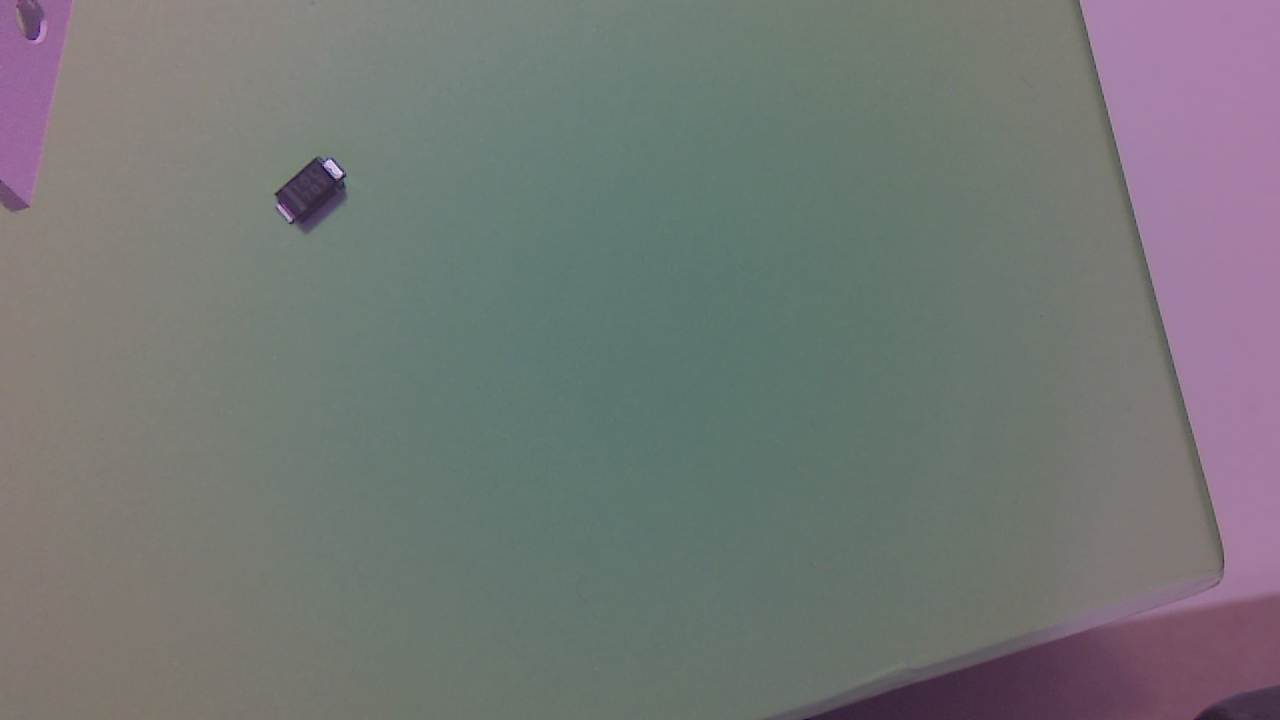Diode: (272, 160, 354, 236)
